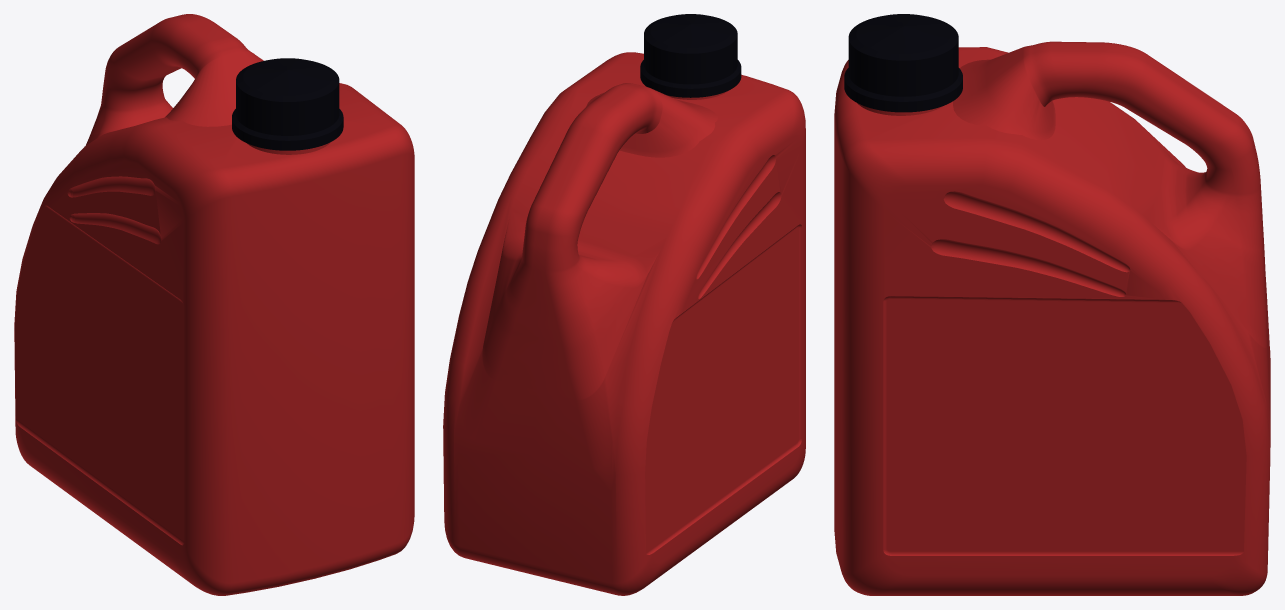
Rendered from Coolant.fbx.
3 renders of one model, left to right at view 1: azimuth 30°, elevation 25°; view 2: azimuth 150°, elevation 25°; view 3: azimuth 270°, elevation 25°, orthographic. The views are drawn at different scales.
Visible parts, largest first — view 1: Cube, Cylinder.001; view 2: Cube, Cylinder.001; view 3: Cube, Cylinder.001.
Part boxes in pixels (x1,y1,x2,y2): Cube: (14,14,414,595); Cylinder.001: (232,58,343,150); Cube: (443,52,805,595); Cylinder.001: (640,14,741,97); Cube: (834,41,1270,595); Cylinder.001: (844,14,962,112).
Bounding box in the file's own units: 3.35 × 6.96 × 5.27.
